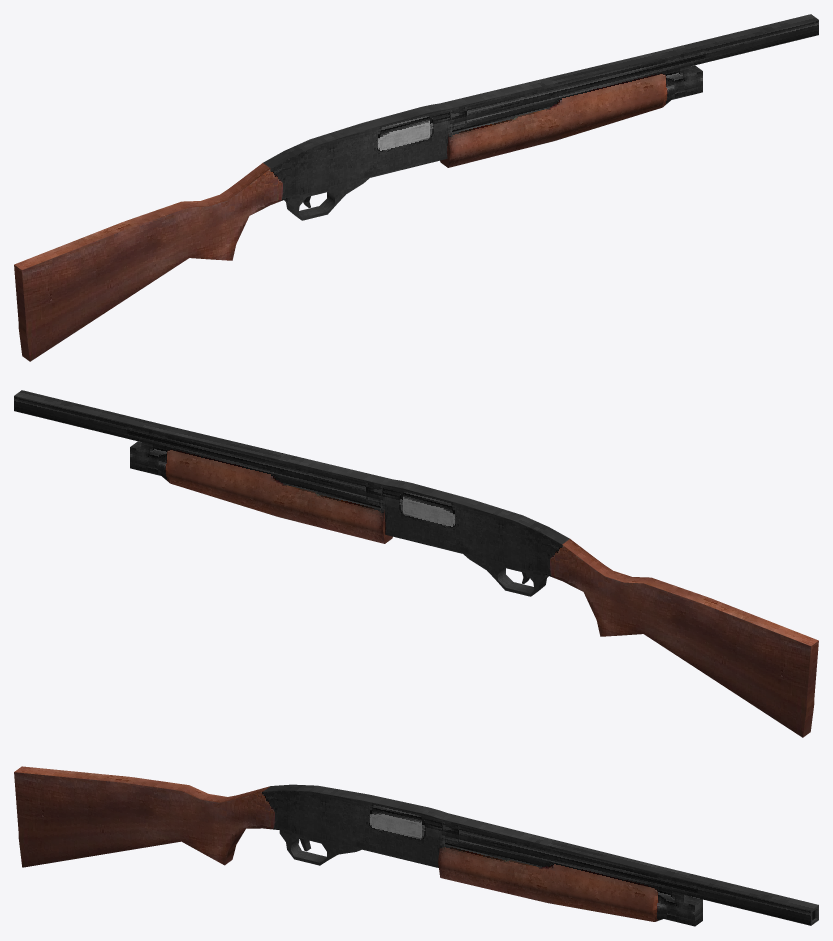
File: Shotgun.glb
3 views of the same model, one above another, from view 1: azimuth 30°, elevation 25°; view 2: azimuth 150°, elevation 25°; view 3: azimuth 330°, elevation 25° (orthographic).
Visible parts, largest first — view 1: Shotgun; view 2: Shotgun; view 3: Shotgun.
Boxes of the visible parts, box(x1,y1,x2,y2) form: Shotgun: box(14, 14, 818, 361); Shotgun: box(14, 390, 818, 737); Shotgun: box(14, 766, 818, 926).
Size of the model in its own units: 0.8412 by 0.1531 by 0.0225.
1 material, 1 textured.
